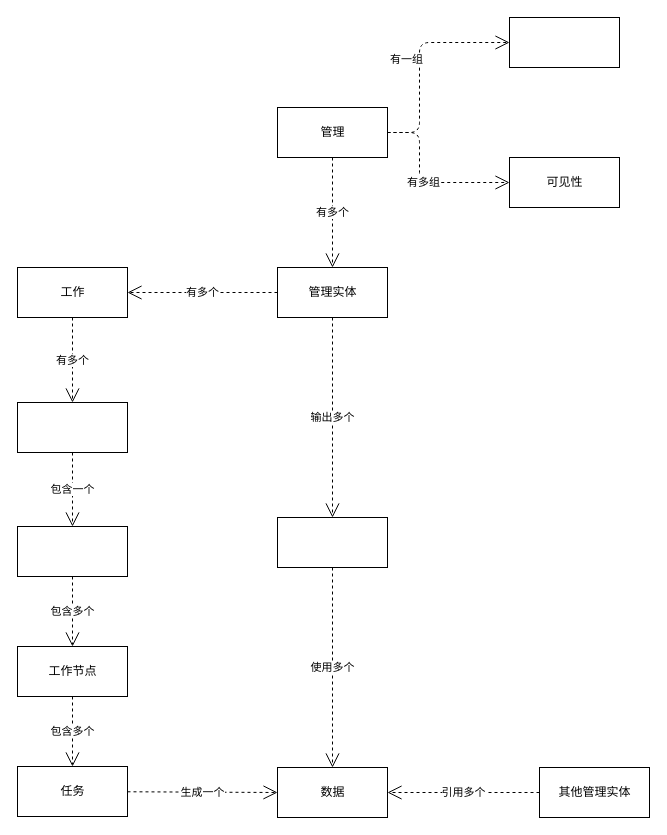
This 667x835 diagram has some shape labels left out. Here are the shapes that lost their labels. From the top down, the centre of each, then its label:
At pixel 564 42: "描述".
At pixel 72 427: "工作阶段".
At pixel 72 551: "过程".
At pixel 332 542: "规格".
